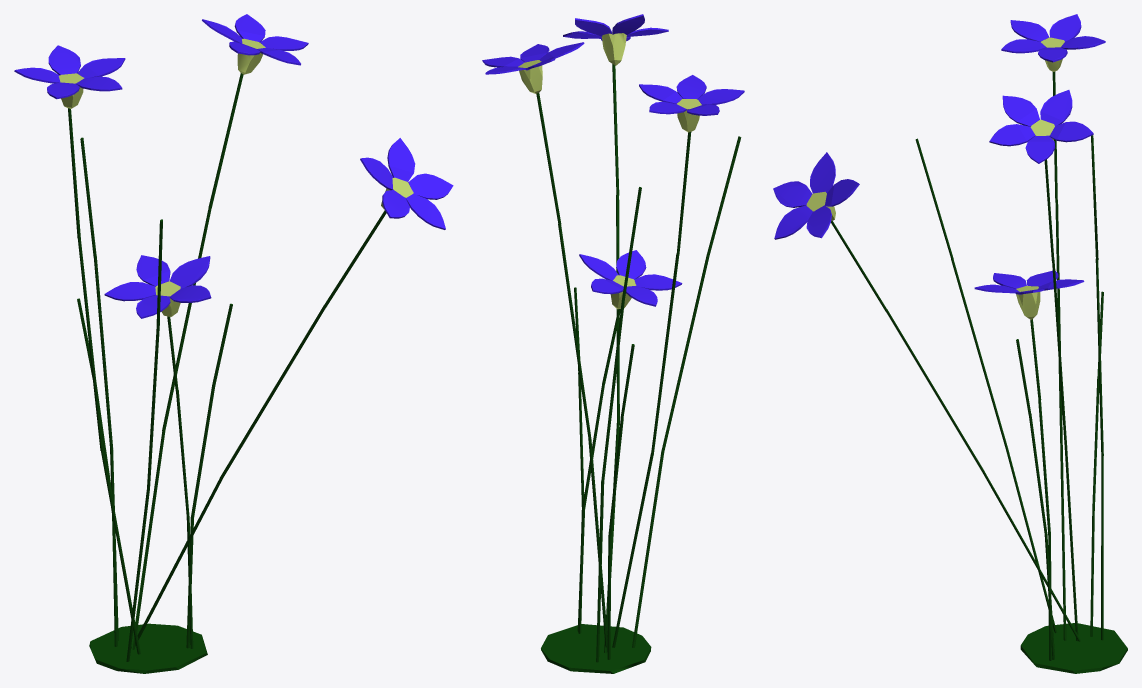
Rendered from Bluebell.obj.
The picture shows the model from 3 angles, left to right: view 1: azimuth 30°, elevation 25°; view 2: azimuth 150°, elevation 25°; view 3: azimuth 270°, elevation 25°; orthographic projection. The views are drawn at different scales.
Parts seen in each view (by area): view 1: Bluebell; view 2: Bluebell; view 3: Bluebell.
Boxes of the visible parts, box(x1,y1,x2,y2) form: Bluebell: box(14, 14, 453, 673); Bluebell: box(482, 14, 744, 673); Bluebell: box(773, 14, 1127, 673).
Bounding box in the file's own units: 0.3933 × 0.7748 × 0.4245.
